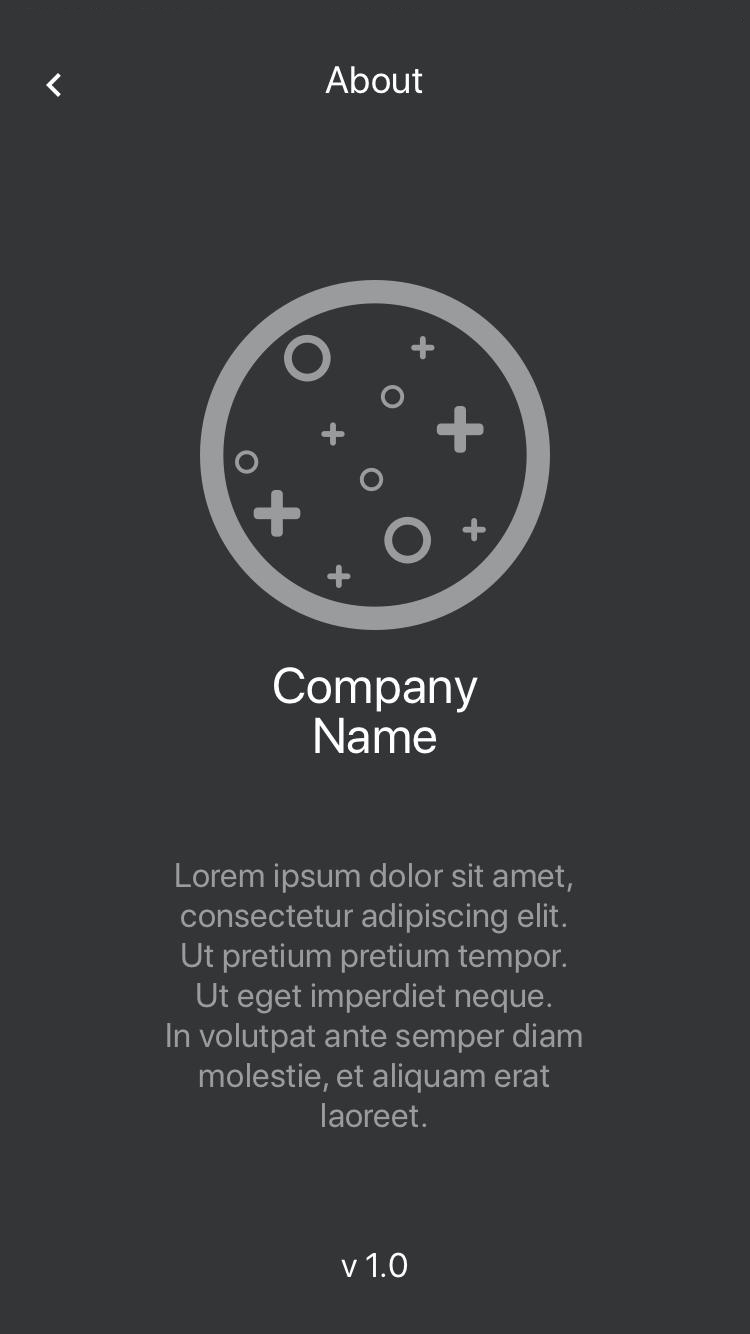Icon: (45, 73, 65, 98)
Image: (199, 282, 551, 630)
Text: (167, 862, 584, 1129), (274, 667, 479, 755), (325, 65, 424, 96), (341, 1252, 408, 1277)
